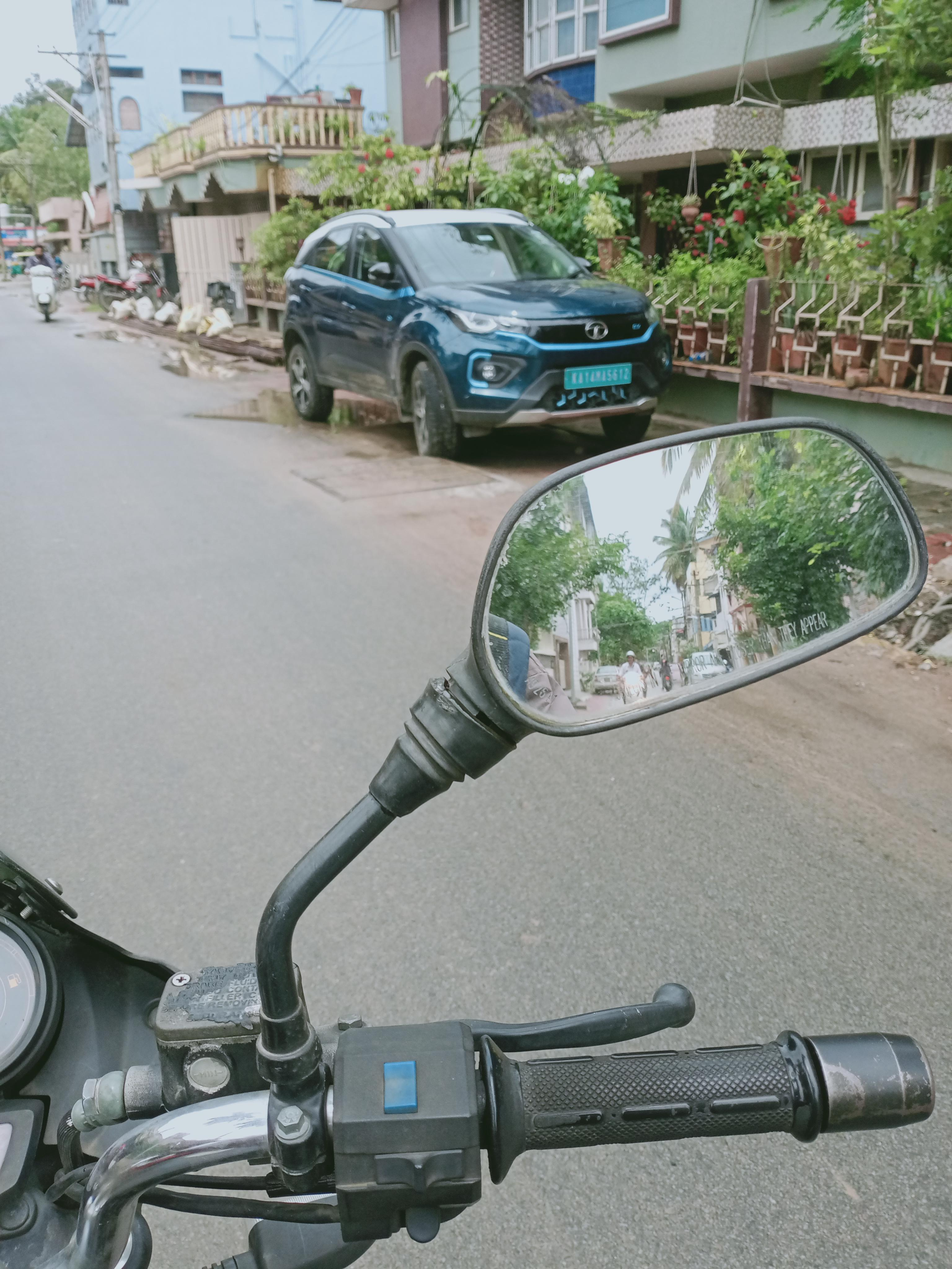green license plate: (557, 358, 636, 389)
